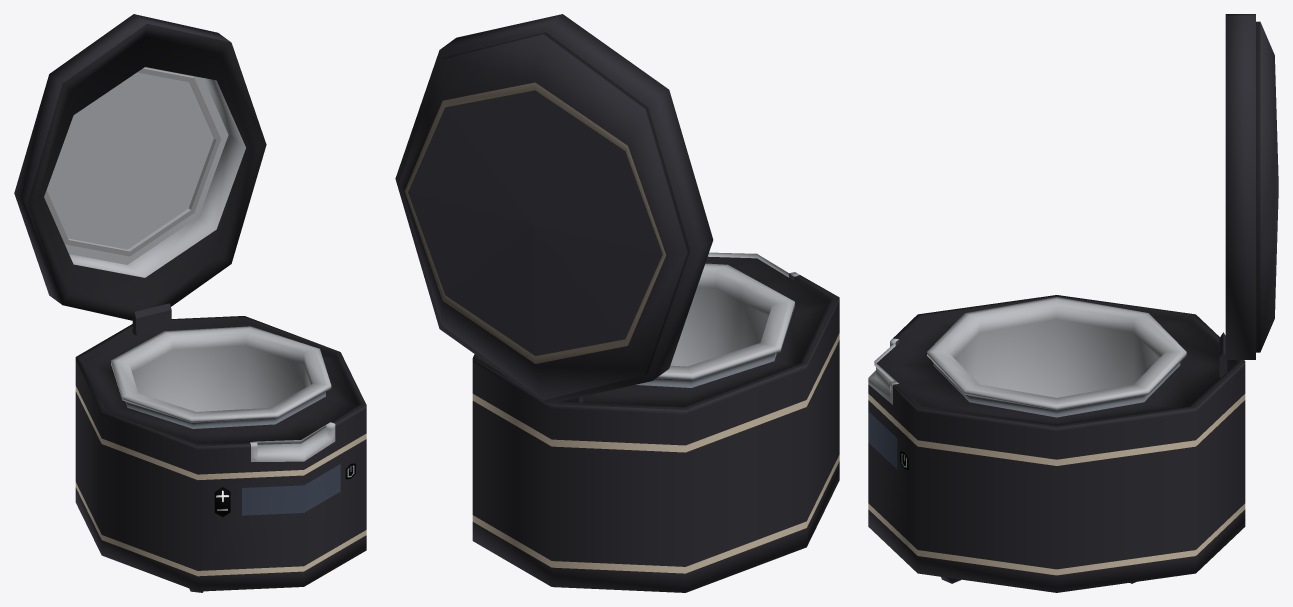
Rendered from tapioca-cooker.glb.
3 views of the same model, side by side, from view 1: azimuth 30°, elevation 25°; view 2: azimuth 150°, elevation 25°; view 3: azimuth 270°, elevation 25° (orthographic). The views are drawn at different scales.
Visible parts, largest first — view 1: Cookerr, top; view 2: top, Cookerr; view 3: Cookerr, top.
Boxes of the visible parts, bbox=[...] form: Cookerr: bbox=[75, 303, 366, 592]; top: bbox=[14, 14, 266, 320]; top: bbox=[395, 14, 713, 404]; Cookerr: bbox=[472, 252, 839, 592]; Cookerr: bbox=[868, 295, 1245, 592]; top: bbox=[1225, 14, 1278, 359].
Bounding box in the file's own units: 1.83 × 3.37 × 2.39.
Materials: 15 (2 with a texture image).
